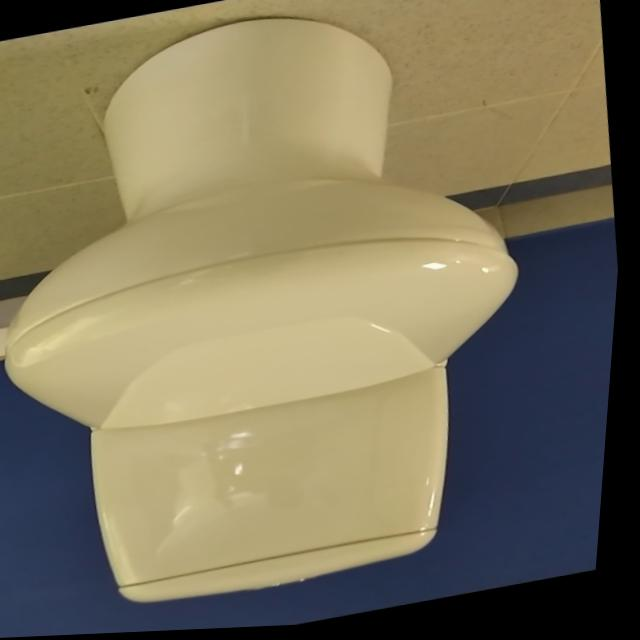toilet: (0, 0, 579, 637)
